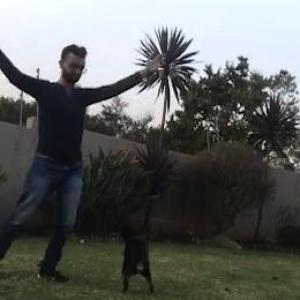takeoff: (0, 24, 151, 263)
